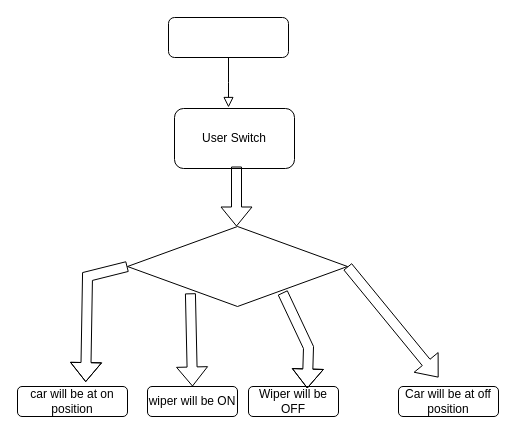
This 516x434 diagram has some shape labels left out. The shapes that lost their labels are listed below. From the top down, each one's box as (x1, y1, x2, y2) in pixels, then its label:
(168, 16, 288, 58): start
(126, 226, 348, 306): no of times the button is pressed
